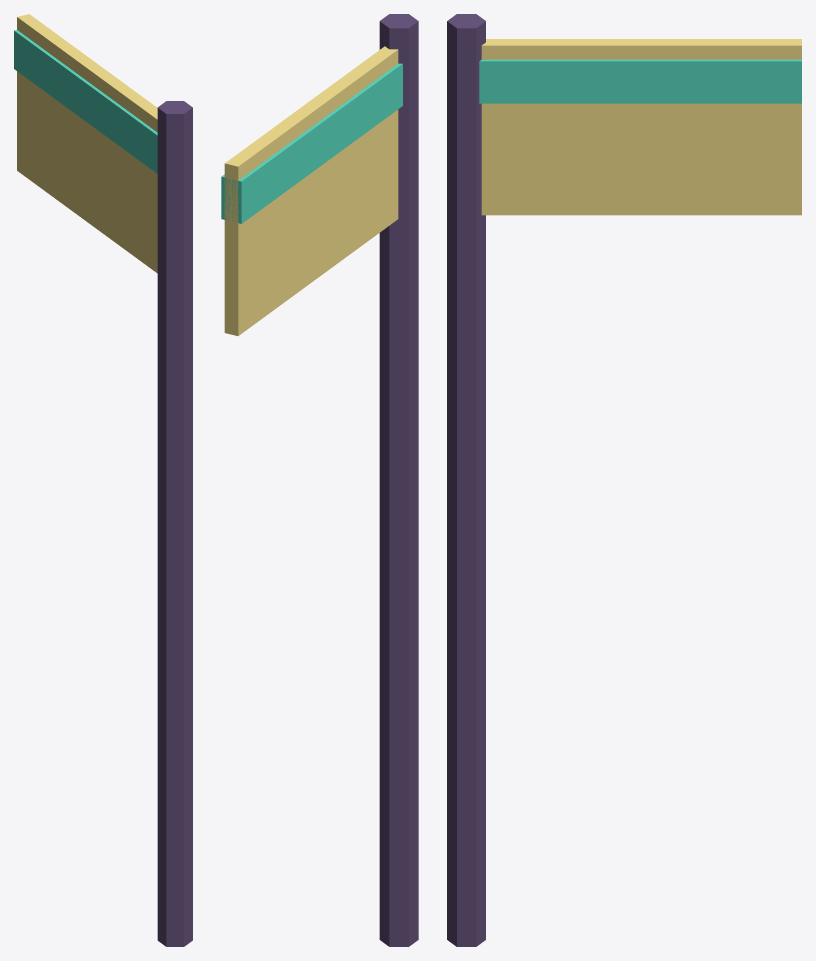
File: prop_flag.glb
3 views of the same model, side by side, from view 1: azimuth 30°, elevation 25°; view 2: azimuth 150°, elevation 25°; view 3: azimuth 270°, elevation 25° (orthographic). The views are drawn at different scales.
Visible parts, largest first — view 1: pole, cloth, stripe; view 2: pole, cloth, stripe; view 3: cloth, pole, stripe.
Boxes of the visible parts, <box> form: pole: <box>157,101,192,946</box>; cloth: <box>17,14,157,273</box>; stripe: <box>14,30,157,173</box>; pole: <box>379,14,418,946</box>; cloth: <box>224,46,398,335</box>; stripe: <box>221,63,402,223</box>; cloth: <box>481,39,801,215</box>; pole: <box>447,14,485,946</box>; stripe: <box>479,59,801,103</box>.
Bounding box in the file's own units: 0.0433 × 1.3 × 0.455.
